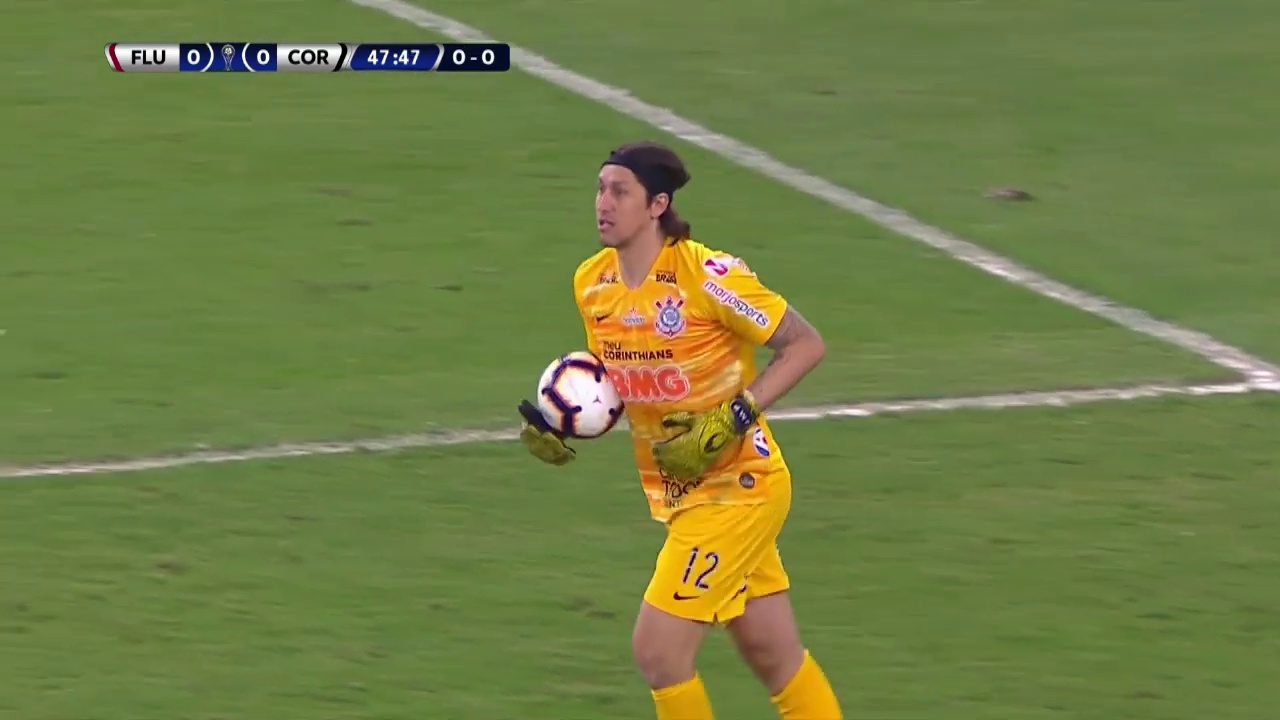ball: (535, 346, 626, 440)
player: (518, 137, 844, 720)
